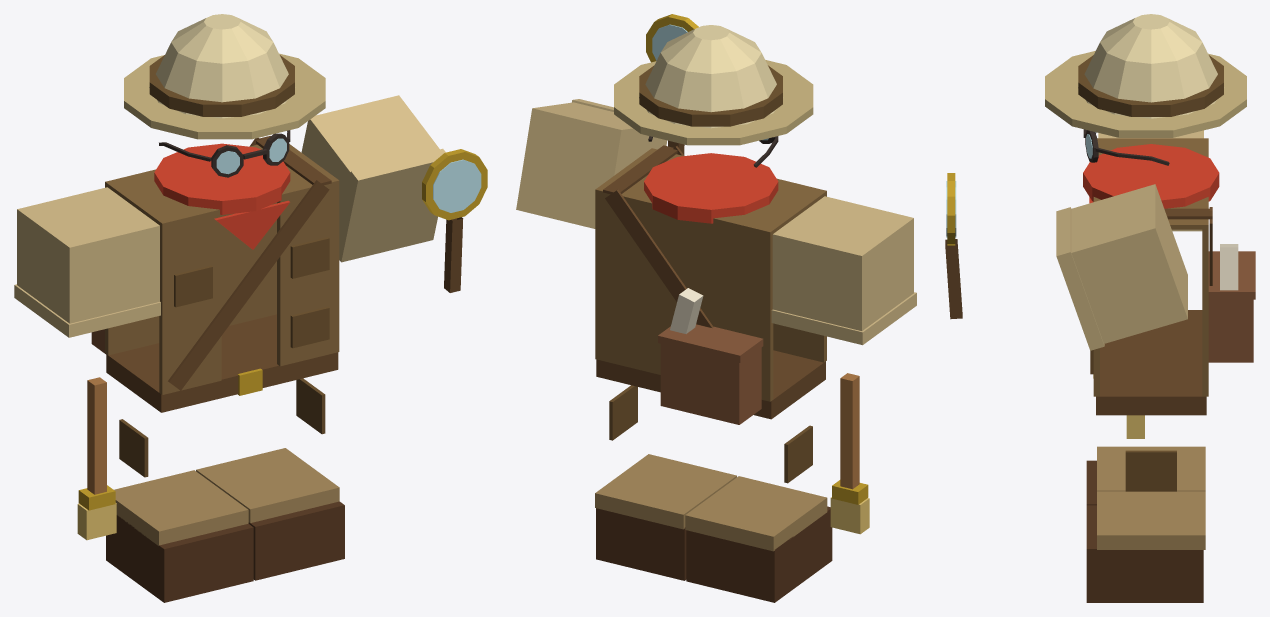
The model's file is w4_keeper_dusty.fbx.
The picture shows the model from 3 angles, left to right: view 1: azimuth 30°, elevation 25°; view 2: azimuth 150°, elevation 25°; view 3: azimuth 270°, elevation 25°; orthographic projection.
Parts seen in each view (by area): view 1: Archaeologist.Vest, Archaeologist.SleeveR, Archaeologist.SleeveL, Archaeologist.Boots, Archaeologist.Cuffs, Archaeologist.Helmet, Archaeologist.Belt, Archaeologist.Bandana, Archaeologist.Brim, Archaeologist.Strap, Archaeologist.Pockets, Archaeologist.HelmetBand (+9 smaller); view 2: Archaeologist.Vest, Archaeologist.SleeveR, Archaeologist.Cuffs, Archaeologist.Boots, Archaeologist.SleeveL, Archaeologist.Satchel, Archaeologist.Helmet, Archaeologist.Bandana, Archaeologist.Brim, Archaeologist.Belt, Archaeologist.Strap, Archaeologist.HelmetBand (+7 smaller); view 3: Archaeologist.SleeveL, Archaeologist.Cuffs, Archaeologist.Belt, Archaeologist.Helmet, Archaeologist.Boots, Archaeologist.Brim, Archaeologist.Bandana, Archaeologist.Satchel, Archaeologist.Vest, Archaeologist.HelmetBand, Archaeologist.CargoPockets, Archaeologist.MagnifierHandle (+5 smaller).
Boxes of the visible parts, x1=… form: Archaeologist.Vest: x1=105, y1=144, x2=339, y2=394; Archaeologist.SleeveR: x1=14, y1=187, x2=160, y2=337; Archaeologist.SleeveL: x1=301, y1=95, x2=445, y2=262; Archaeologist.Boots: x1=106, y1=501, x2=344, y2=602; Archaeologist.Cuffs: x1=114, y1=448, x2=339, y2=545; Archaeologist.Helmet: x1=149, y1=14, x2=295, y2=118; Archaeologist.Belt: x1=106, y1=314, x2=338, y2=412; Archaeologist.Bandana: x1=154, y1=143, x2=290, y2=249; Archaeologist.Brim: x1=124, y1=53, x2=325, y2=139; Archaeologist.Strap: x1=168, y1=136, x2=331, y2=390; Archaeologist.Pockets: x1=174, y1=237, x2=329, y2=348; Archaeologist.HelmetBand: x1=149, y1=55, x2=294, y2=116; Archaeologist.Vest: x1=595, y1=148, x2=826, y2=401; Archaeologist.SleeveR: x1=771, y1=196, x2=916, y2=345; Archaeologist.Cuffs: x1=595, y1=454, x2=827, y2=551; Archaeologist.Boots: x1=596, y1=506, x2=832, y2=602; Archaeologist.SleeveL: x1=516, y1=99, x2=667, y2=228; Archaeologist.Satchel: x1=658, y1=324, x2=763, y2=424; Archaeologist.Helmet: x1=639, y1=25, x2=783, y2=128; Archaeologist.Bandana: x1=644, y1=153, x2=778, y2=223; Archaeologist.Brim: x1=614, y1=60, x2=813, y2=145; Archaeologist.Belt: x1=596, y1=350, x2=825, y2=419; Archaeologist.Strap: x1=603, y1=145, x2=713, y2=327; Archaeologist.HelmetBand: x1=639, y1=65, x2=782, y2=126; Archaeologist.SleeveL: x1=1056, y1=184, x2=1187, y2=350; Archaeologist.Cuffs: x1=1097, y1=446, x2=1205, y2=549; Archaeologist.Belt: x1=1096, y1=310, x2=1206, y2=415; Archaeologist.Helmet: x1=1078, y1=14, x2=1224, y2=118; Archaeologist.Boots: x1=1086, y1=460, x2=1203, y2=602; Archaeologist.Brim: x1=1045, y1=51, x2=1246, y2=137; Archaeologist.Bandana: x1=1083, y1=144, x2=1219, y2=208; Archaeologist.Satchel: x1=1208, y1=251, x2=1255, y2=362; Archaeologist.Vest: x1=1093, y1=138, x2=1208, y2=396; Archaeologist.HelmetBand: x1=1078, y1=55, x2=1223, y2=116; Archaeologist.CargoPockets: x1=1125, y1=450, x2=1176, y2=491; Archaeologist.MagnifierHandle: x1=945, y1=239, x2=962, y2=319.
Bounding box in the file's own units: 4.08 × 5.78 × 3.03.
